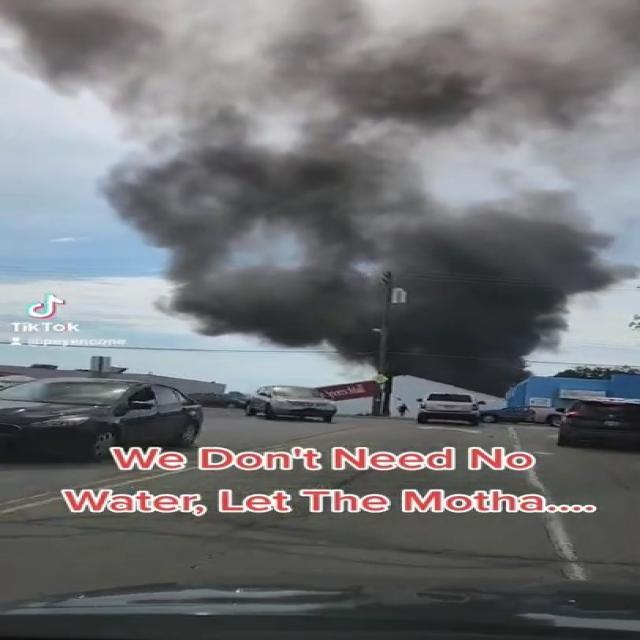Smoke: (253, 200, 572, 387)
